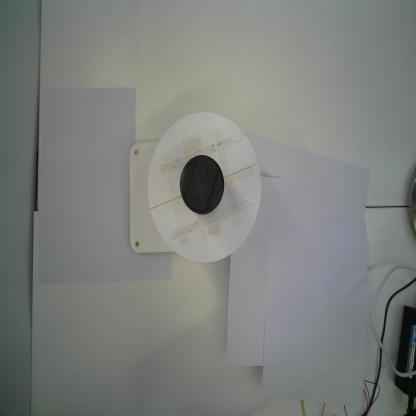Canned Food: (179, 153, 226, 217)
